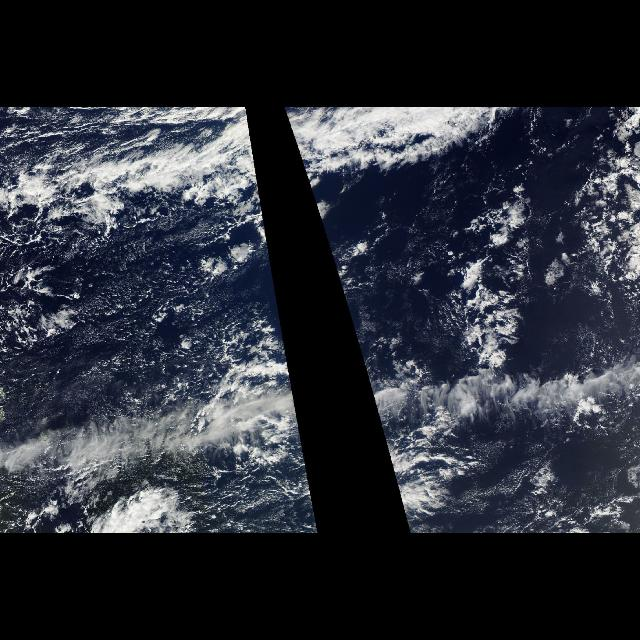Gravel: (30, 224, 288, 406)
